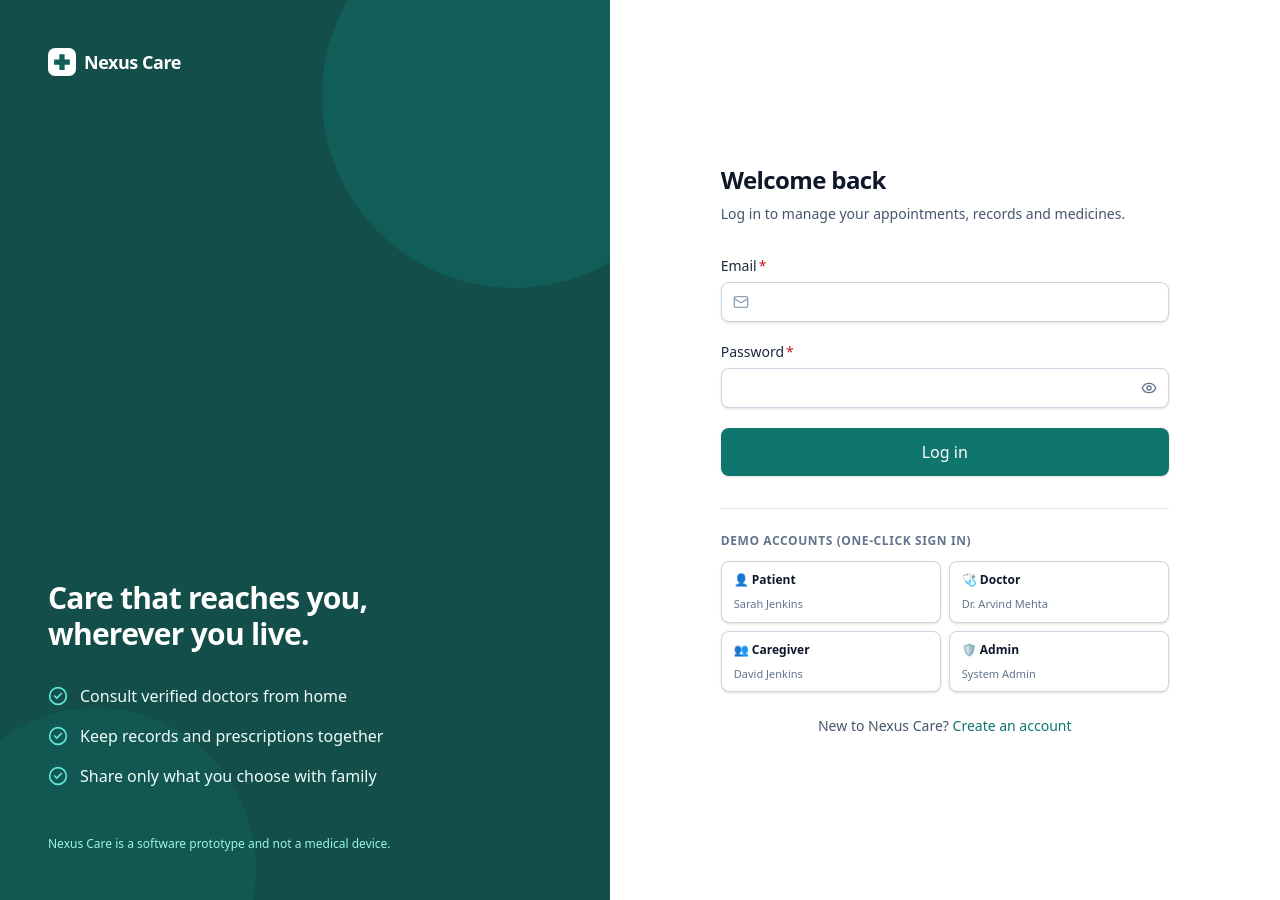
LoginPage › shows the server message for invalid credentials and stays on the page
This screenshot has width=1280, height=900.
Step 1. Type "someone@example.com" into the field labelled "Email*" → (945, 302), box 721,282 -> 1169,322
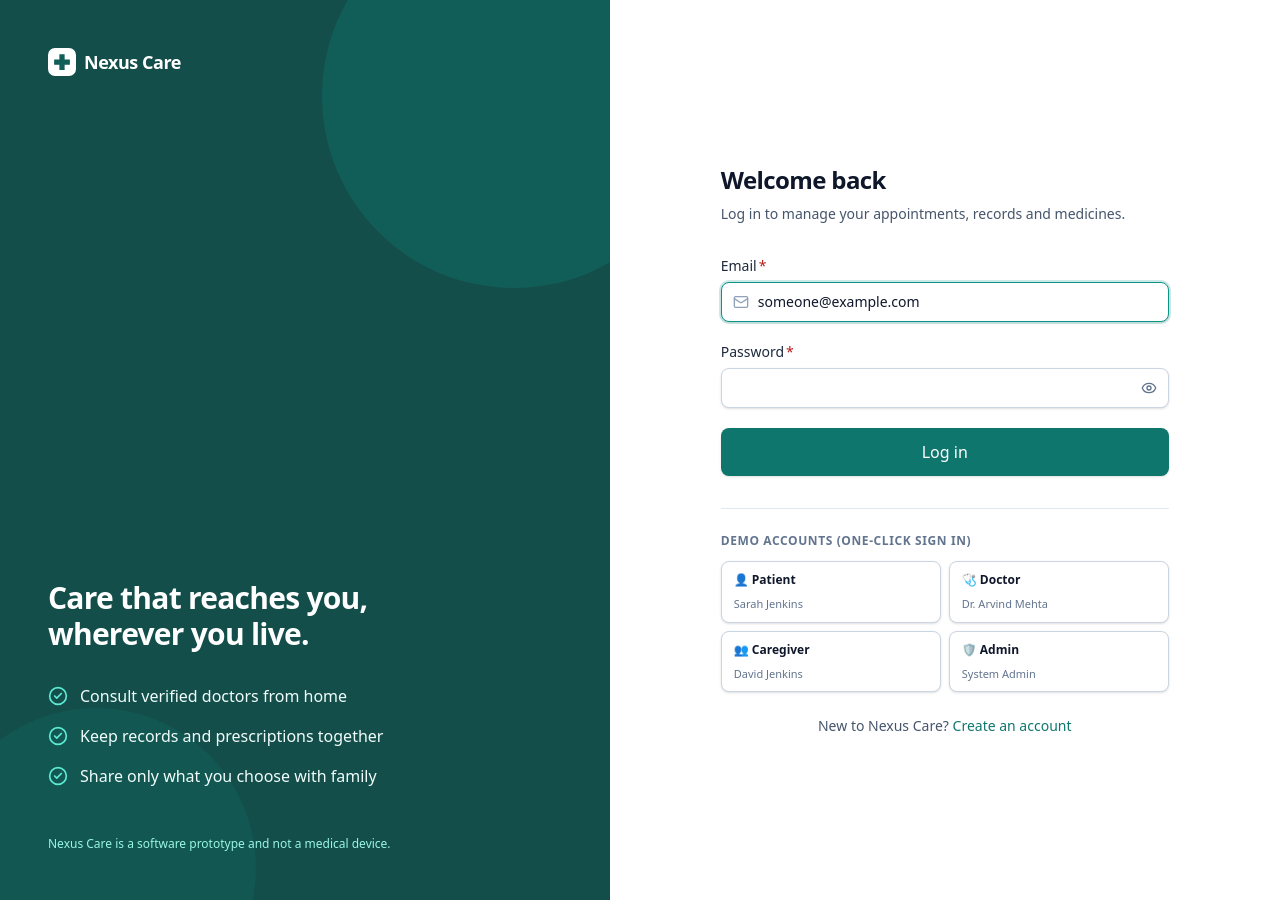
Step 2. Type "correcthorse42" into the password field labelled "Password*" → (945, 388), box 721,368 -> 1169,408
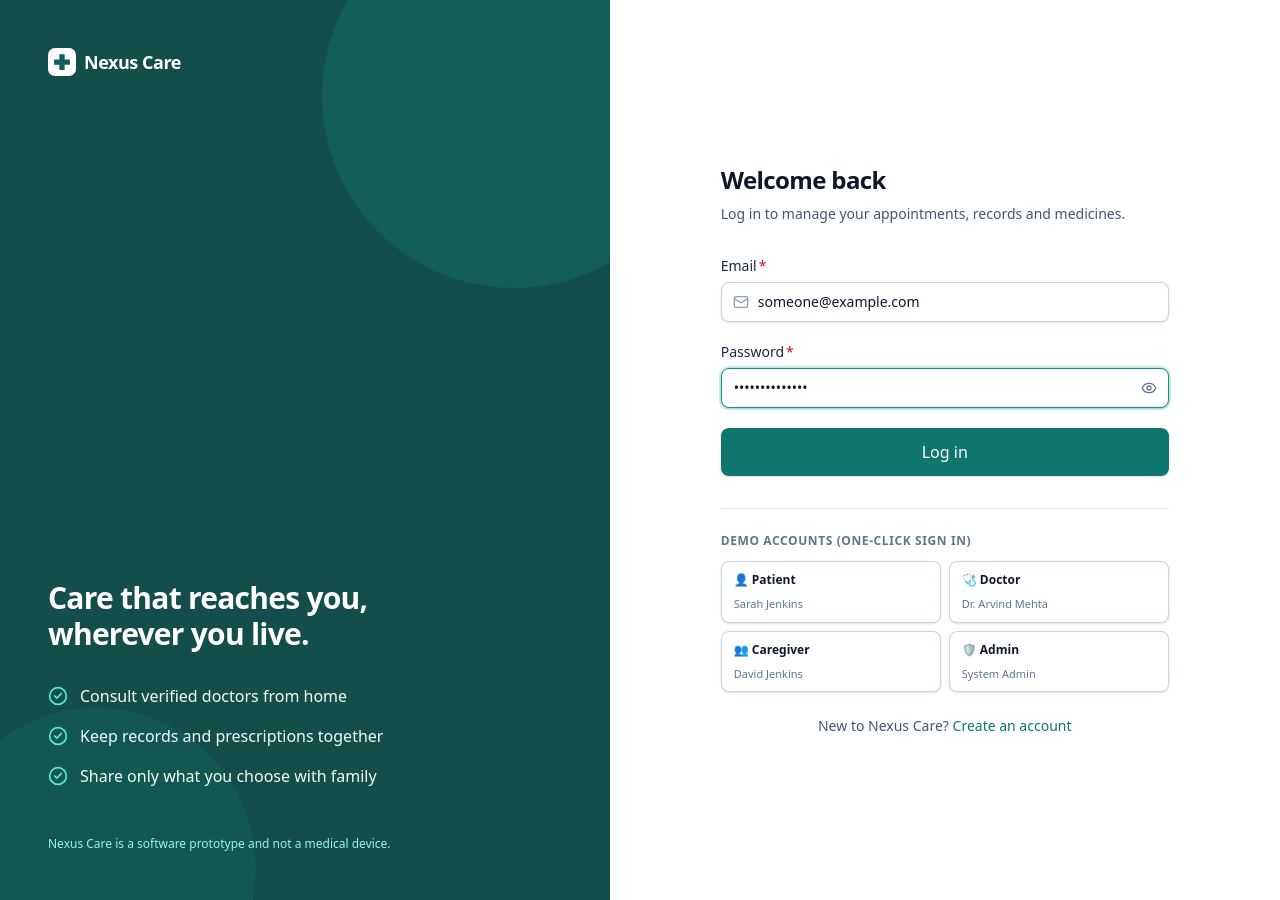
Step 3. Click the button "Log in" → click(945, 452), box 721,428 -> 1169,476
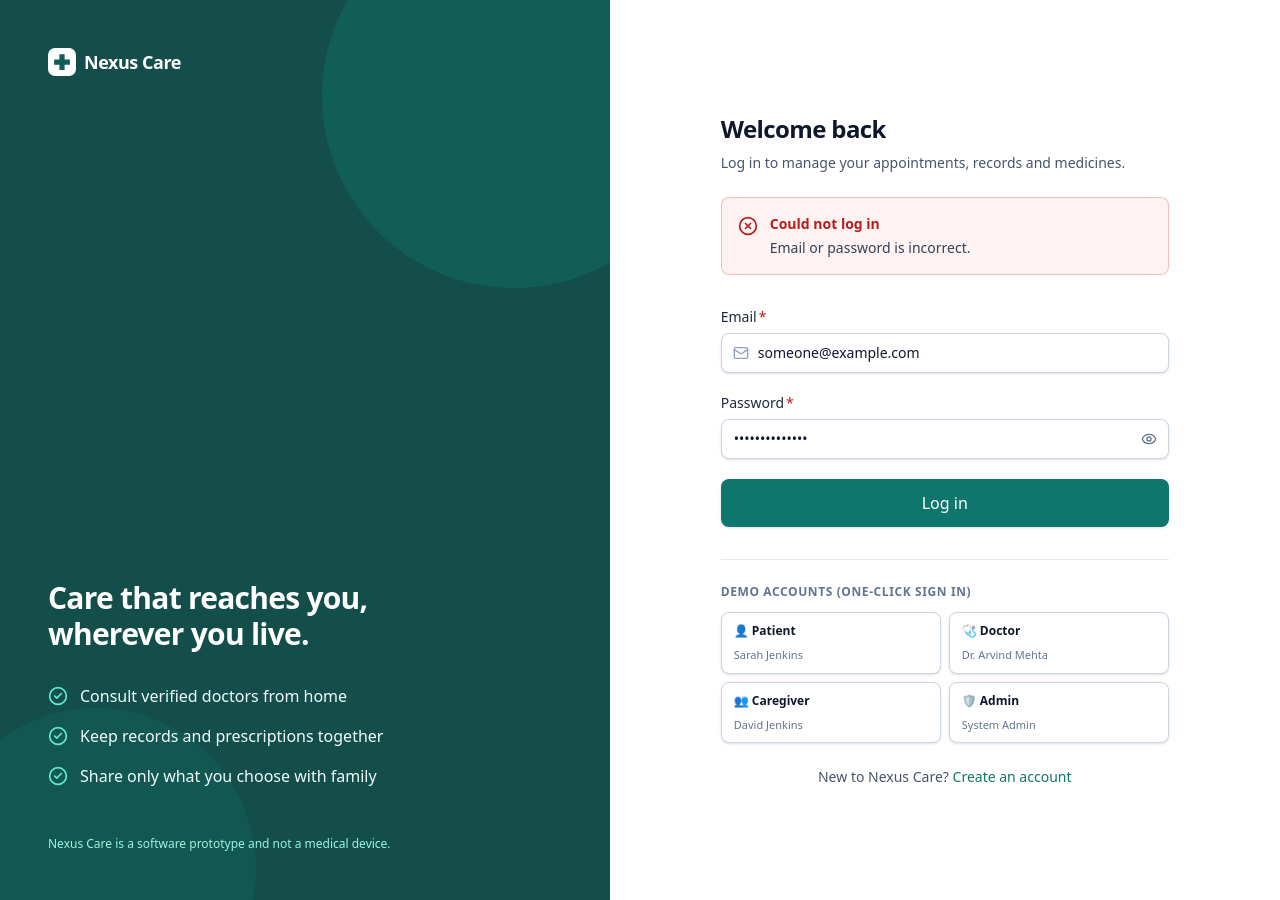
Now the text "Email or password is incorrect." is shown, box 770,238 -> 970,257
